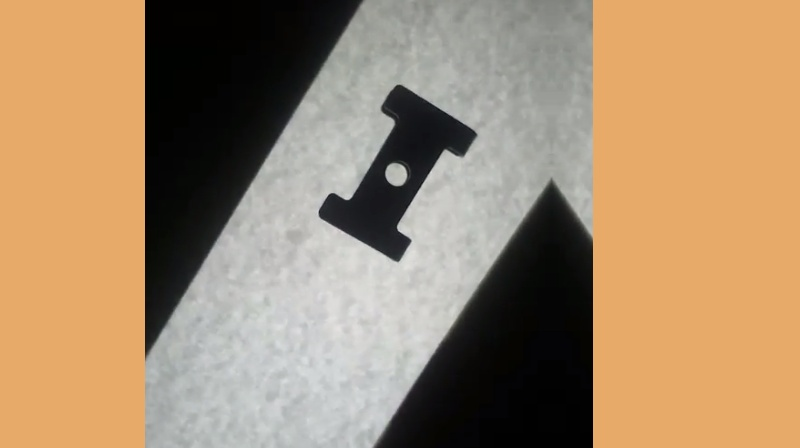O002: (314, 82, 477, 267)
